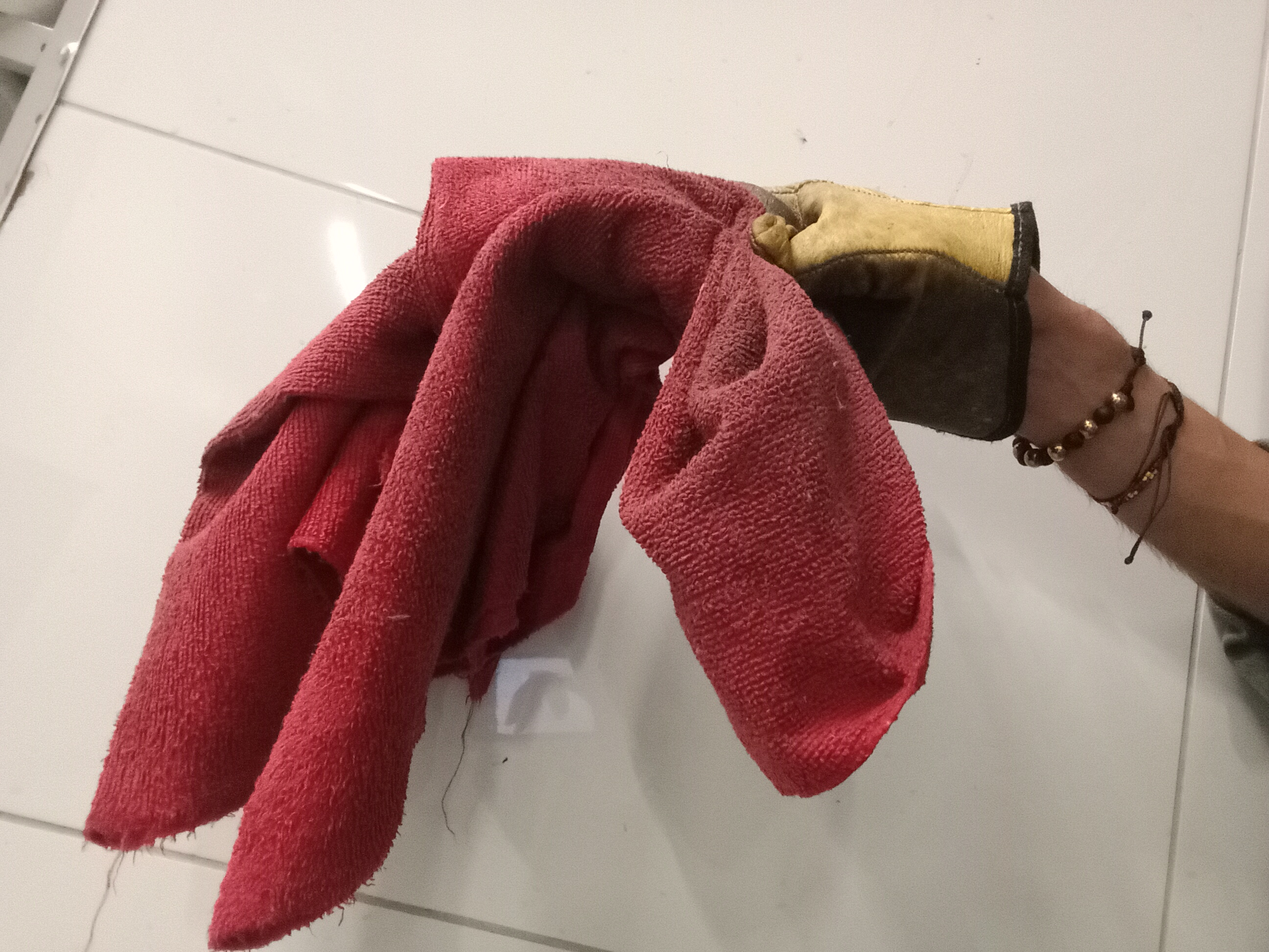Ordinario: (84, 155, 934, 952)
